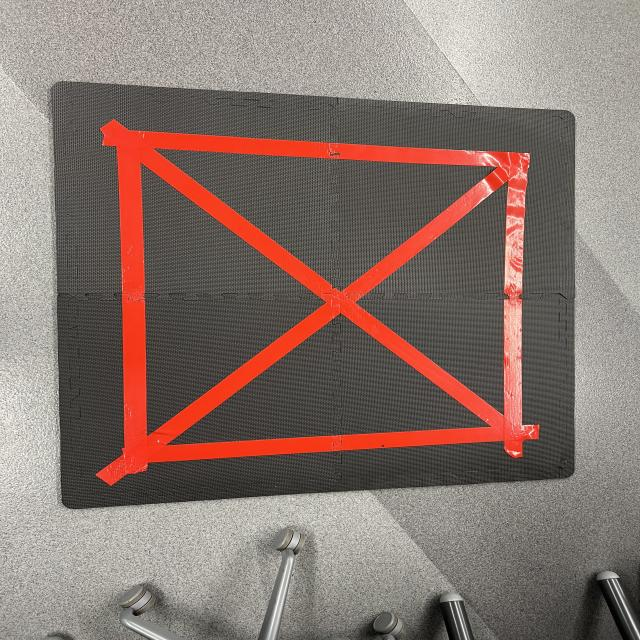landingPads: (53, 86, 575, 506)
